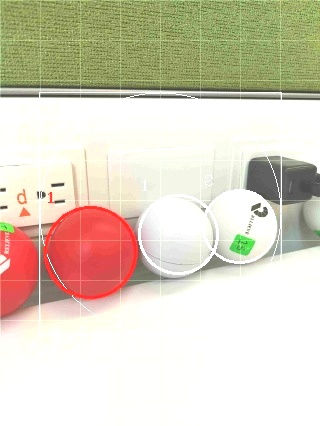Pelota blanca: (135, 193, 217, 280), (207, 188, 275, 264), (300, 196, 320, 238)
Pelota roja: (42, 204, 139, 299), (0, 220, 38, 318)
